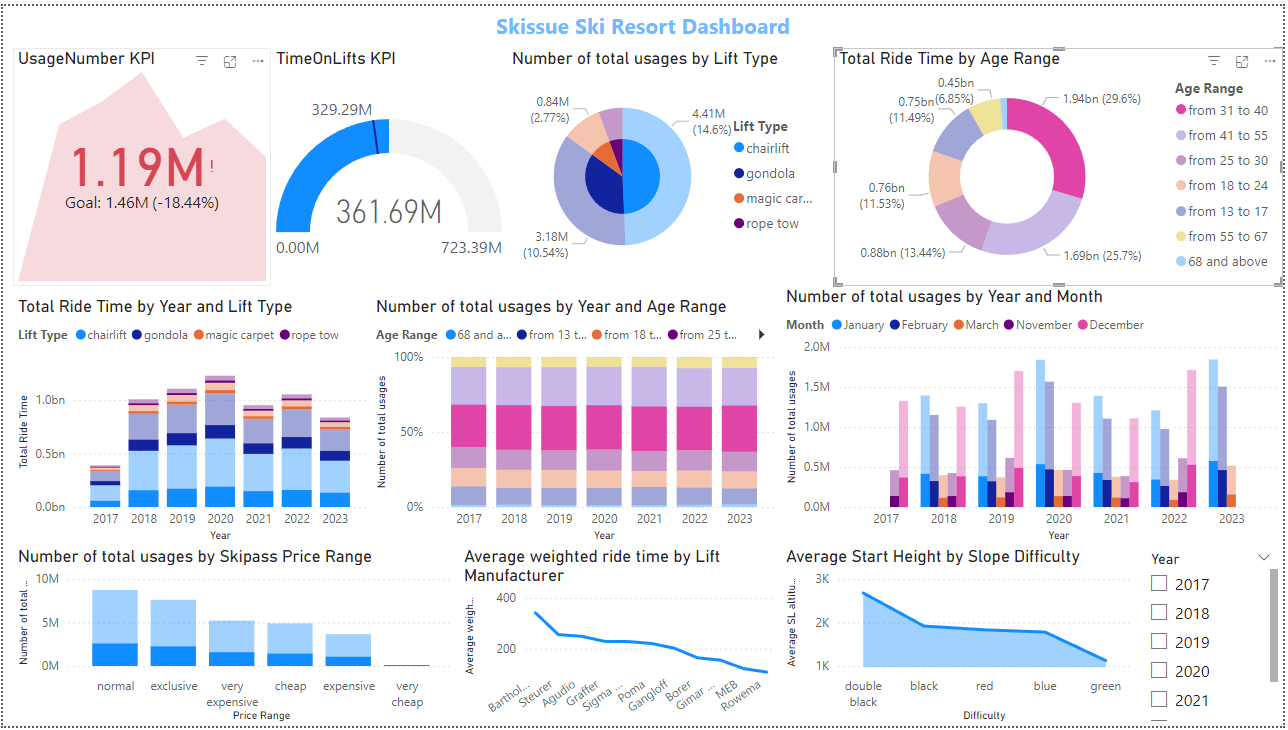

What the dashboard file says about the page in this screenshot:
{"tool":"powerbi","page":{"name":"Page 1","canvas":[1280,720],"ordinal":0},"visuals":[{"type":"kpi","title":"UsageNumber KPI","fields":{"TrendLine":["Date.Year"],"Indicator":["Ski Lift Usage.___UsageNumber Value"],"Goal":["Ski Lift Usage.UsageNumber Goal"]},"box":[9.7,41.8,258.7,238.3],"z":0},{"type":"gauge","title":"TimeOnLifts KPI","fields":{"TargetValue":["Ski Lift Usage.TimeOnLifts Goal"],"Y":["Ski Lift Usage.___TimeOnLifts Value"]},"box":[268.4,41.8,235.4,238.3],"z":1000},{"type":"columnChart","fields":{"Y":["Ski Lift Usage.Total Ride Time"],"Category":["Date.Year"],"Series":["Ski Lift.Lift Type"]},"box":[9.7,289.8,357.9,250],"z":2000},{"type":"hundredPercentStackedColumnChart","fields":{"Category":["Date.Year"],"Series":["Customers.Age Range"],"Y":["Ski Lift Usage.Number of total usages"]},"box":[367.7,289.8,410.5,250],"z":3000},{"type":"pieChart","fields":{"Y":["Ski Lift Usage.Number of total usages"],"Category":["Ski Lift.Lift Type"]},"box":[503.8,41.8,326.8,238.3],"z":4000},{"type":"donutChart","fields":{"Y":["Ski Lift Usage.Total Ride Time"],"Category":["Customers.Age Range"]},"box":[830.6,41.8,449.4,238.3],"z":5000},{"type":"clusteredColumnChart","fields":{"Y":["Ski Lift Usage.Number of total usages"],"Category":["Date.Year"],"Series":["Date.Month"]},"box":[778.1,280.1,501.9,259.7],"z":6000},{"type":"columnChart","title":"Number of total usages by Skipass Price Range","fields":{"Category":["Ski Pass.Price Range"],"Y":["Ski Lift Usage.Number of total usages"]},"box":[9.7,539.8,446.4,179.9],"z":7000},{"type":"textbox","box":[434.8,0,410.5,41.8],"z":8000},{"type":"lineChart","fields":{"Y":["Measures.Average weighted ride time"],"Category":["Ski Lift.Lift Manufacturer"]},"box":[456,540,322,180],"z":9000},{"type":"areaChart","title":"Average Start Height by Slope Difficulty","fields":{"Y":["Measures.Average SL altitude"],"Category":["Ski Slope.Difficulty"]},"box":[778.1,539.8,357,179.9],"z":10000},{"type":"slicer","fields":{"Values":["Date.Year"]},"box":[1135.1,539.8,144.9,179.9],"z":10001}]}

Visuals, with their boxes in screenshot pixels (x1, y1, x2, y2), scaled from the page's 1280x720 canvas onto the 1288x730 screenshot:
"UsageNumber KPI" kpi: [10,42,270,284]
"TimeOnLifts KPI" gauge: [270,42,507,284]
columnChart - Ski Lift Usage.Total Ride Time x Date.Year: [10,294,370,547]
hundredPercentStackedColumnChart - Date.Year x Customers.Age Range: [370,294,783,547]
pieChart - Ski Lift Usage.Number of total usages x Ski Lift.Lift Type: [507,42,836,284]
donutChart - Ski Lift Usage.Total Ride Time x Customers.Age Range: [836,42,1287,284]
clusteredColumnChart - Ski Lift Usage.Number of total usages x Date.Year: [783,284,1287,547]
"Number of total usages by Skipass Price Range" columnChart: [10,547,459,729]
textbox: [438,0,851,42]
lineChart - Measures.Average weighted ride time x Ski Lift.Lift Manufacturer: [459,548,783,729]
"Average Start Height by Slope Difficulty" areaChart: [783,547,1142,729]
slicer - Date.Year: [1142,547,1287,729]
